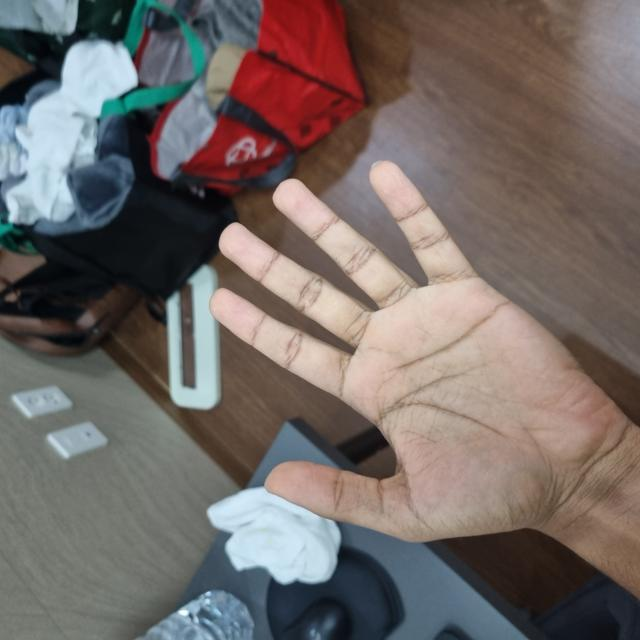Paper: (96, 272, 357, 635)
